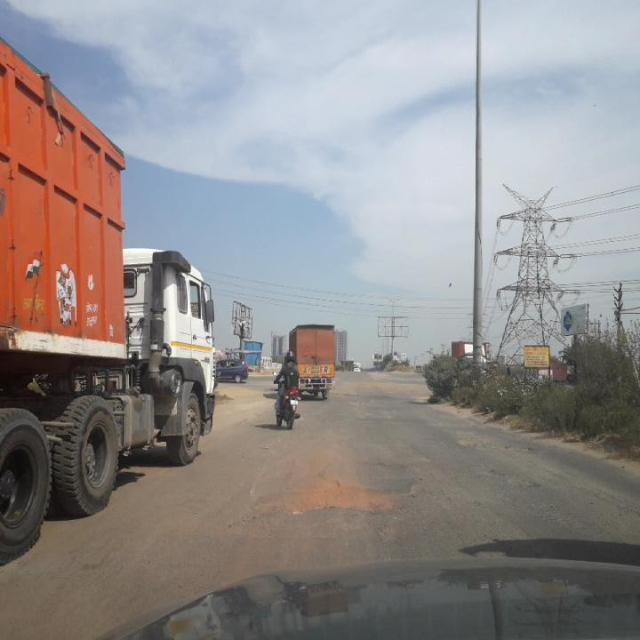Surface Erosion: (238, 428, 464, 554)
